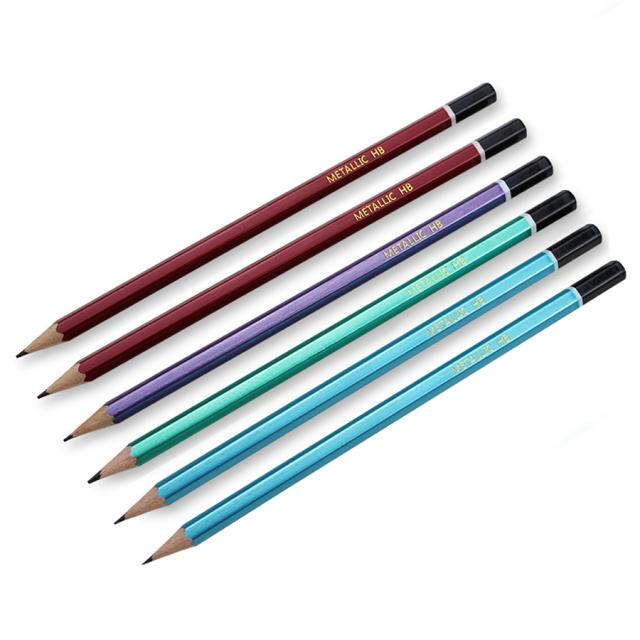pencil: (136, 254, 634, 566), (77, 182, 587, 484), (110, 220, 612, 523), (57, 154, 563, 442), (2, 78, 505, 365), (31, 115, 533, 400)
